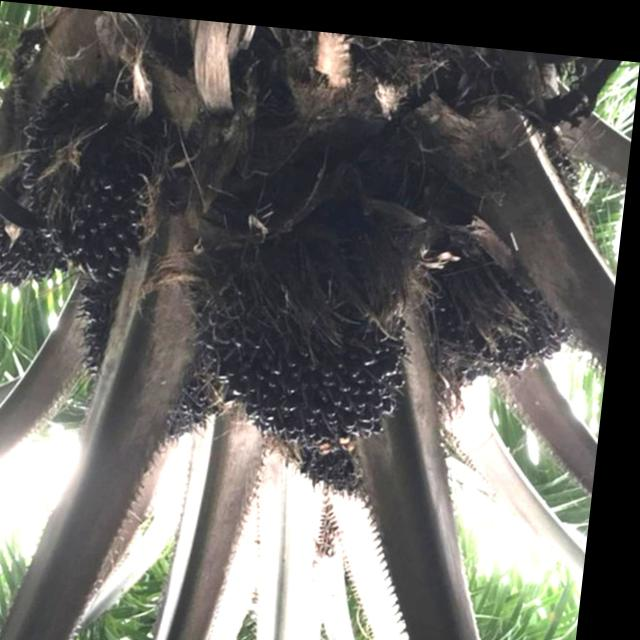ripe: (198, 254, 432, 454), (67, 262, 242, 455), (428, 241, 583, 387), (49, 126, 173, 280), (0, 197, 68, 297)
